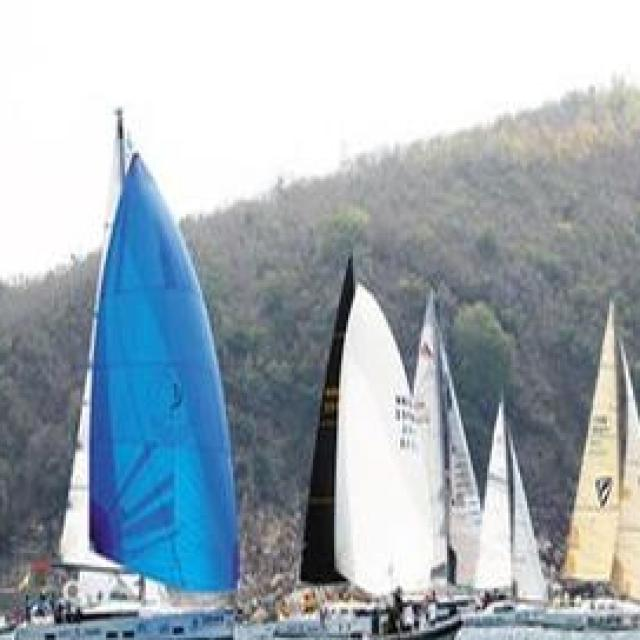sailboat: (27, 102, 240, 640), (284, 249, 463, 640), (536, 294, 640, 631), (406, 290, 488, 615), (469, 389, 546, 627)
